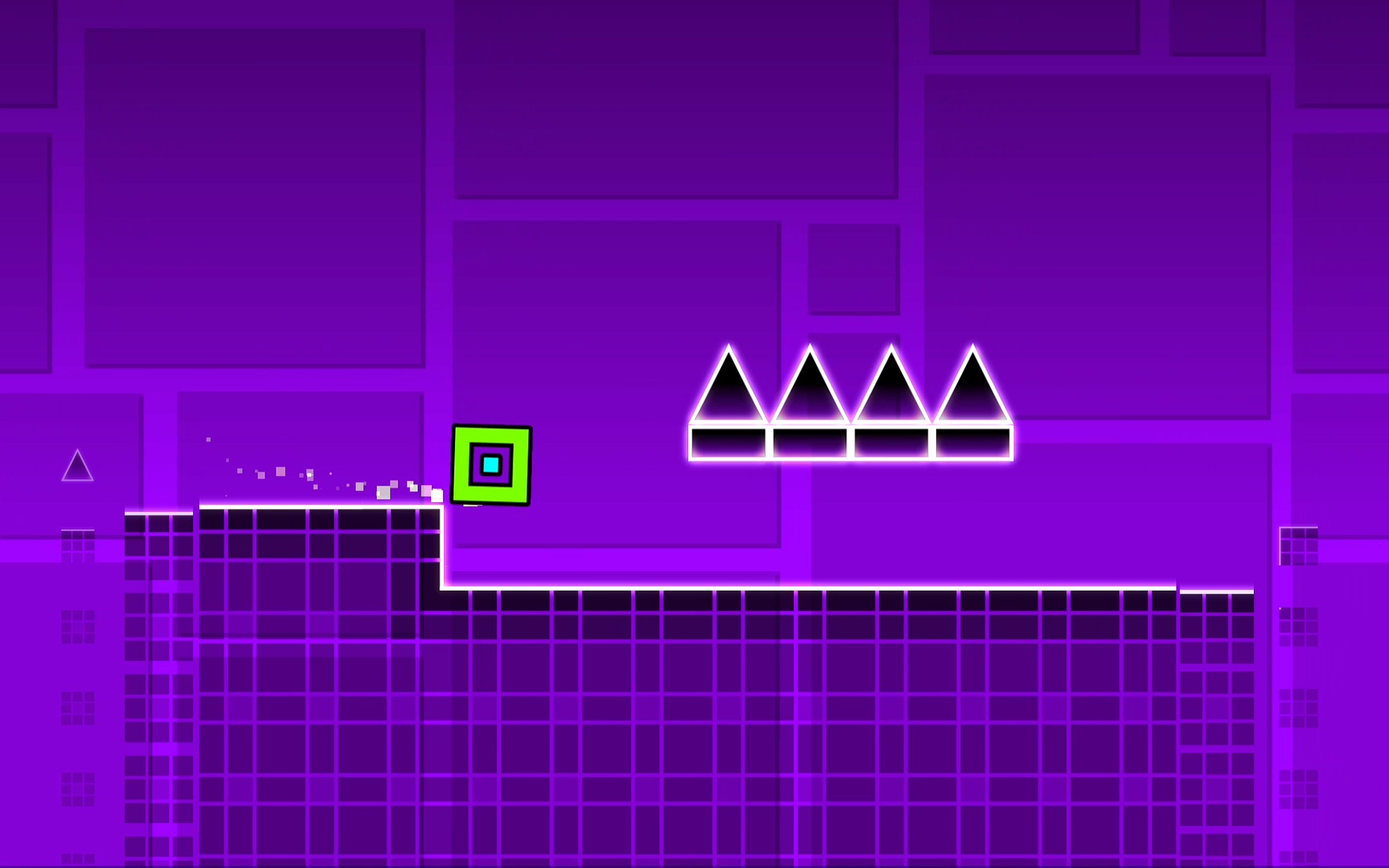Block2: (438, 589, 1246, 868), (127, 508, 437, 868)
Block3: (851, 420, 933, 464), (931, 423, 1016, 463), (689, 426, 769, 465), (773, 426, 850, 464)
Player: (450, 425, 532, 503)
Spike: (691, 344, 767, 421), (936, 345, 1011, 420), (773, 346, 848, 421), (854, 347, 927, 421), (60, 448, 95, 480)
